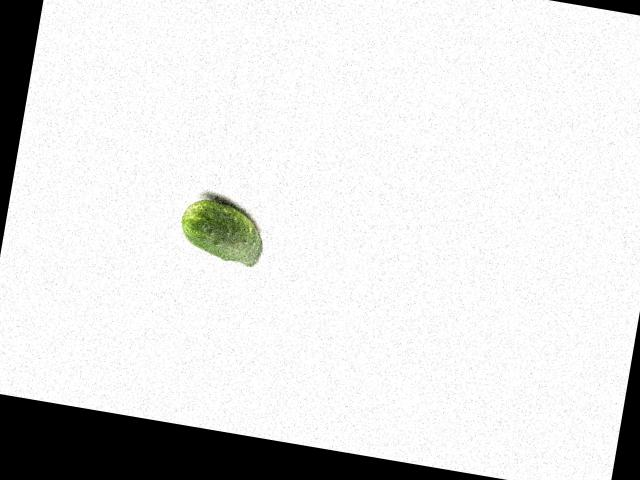cucumber: (175, 195, 269, 268)
